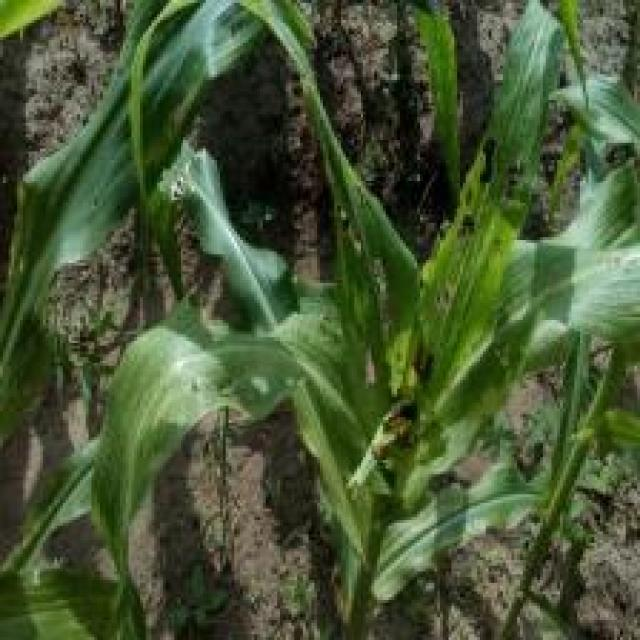Plaga: (371, 440, 388, 471)
